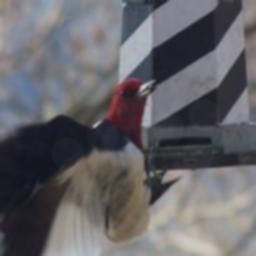Woodpecker: (0, 66, 175, 256)
